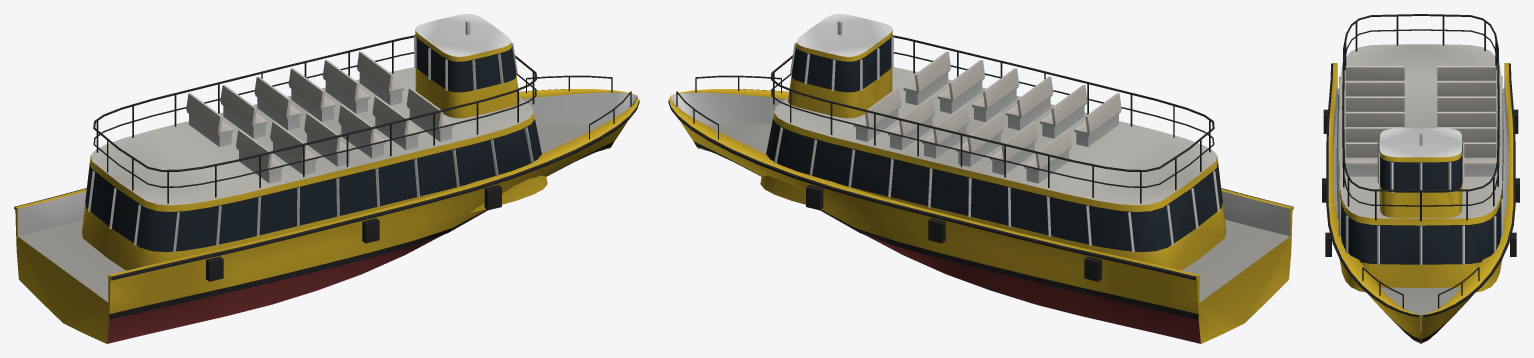
The model's file is watertaxi.glb.
The picture shows the model from 3 angles, left to right: view 1: azimuth 30°, elevation 25°; view 2: azimuth 150°, elevation 25°; view 3: azimuth 270°, elevation 25°; orthographic projection. The views are drawn at different scales.
Visible parts, largest first — view 1: lod0; view 2: lod0; view 3: lod0.
Part boxes in pixels (<box>): lod0: <box>14,14,639,343</box>; lod0: <box>668,14,1293,343</box>; lod0: <box>1322,14,1519,343</box>.
Size of what is drawn, in the model's own units: 18.5 by 6.25 by 6.
